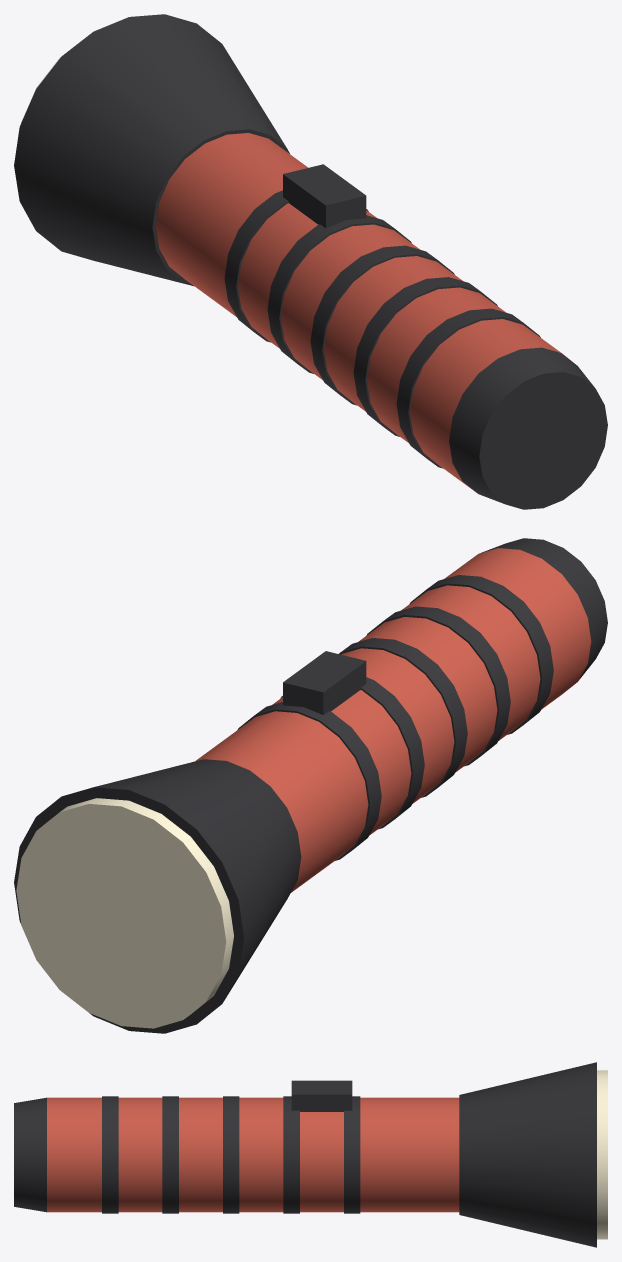
File: lanterna.glb
3 views of the same model, one above another, from view 1: azimuth 30°, elevation 25°; view 2: azimuth 150°, elevation 25°; view 3: azimuth 270°, elevation 25° (orthographic). The views are drawn at different scales.
Parts seen in each view (by area): view 1: lanterna; view 2: lanterna; view 3: lanterna.
Boxes of the visible parts, x1,y1,x2,y2 form: lanterna: (14,14,607,509); lanterna: (14,538,607,1033); lanterna: (14,1062,607,1247).
Size of the model in its own units: 0.068 by 0.068 by 0.216.
